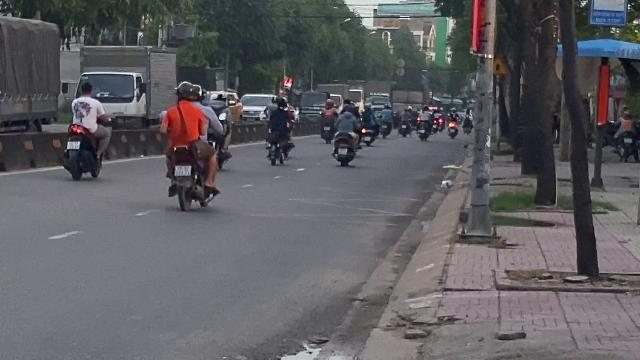helmet: (173, 81, 194, 102)
licenseplate: (174, 165, 190, 175), (68, 140, 80, 148)
motorcyclist: (158, 80, 222, 212), (61, 80, 109, 180)
nohelmet: (77, 80, 93, 96)
